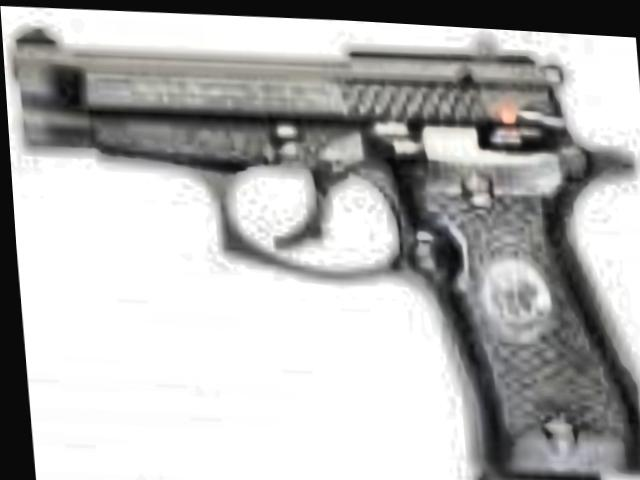pistol: (4, 7, 640, 480)
